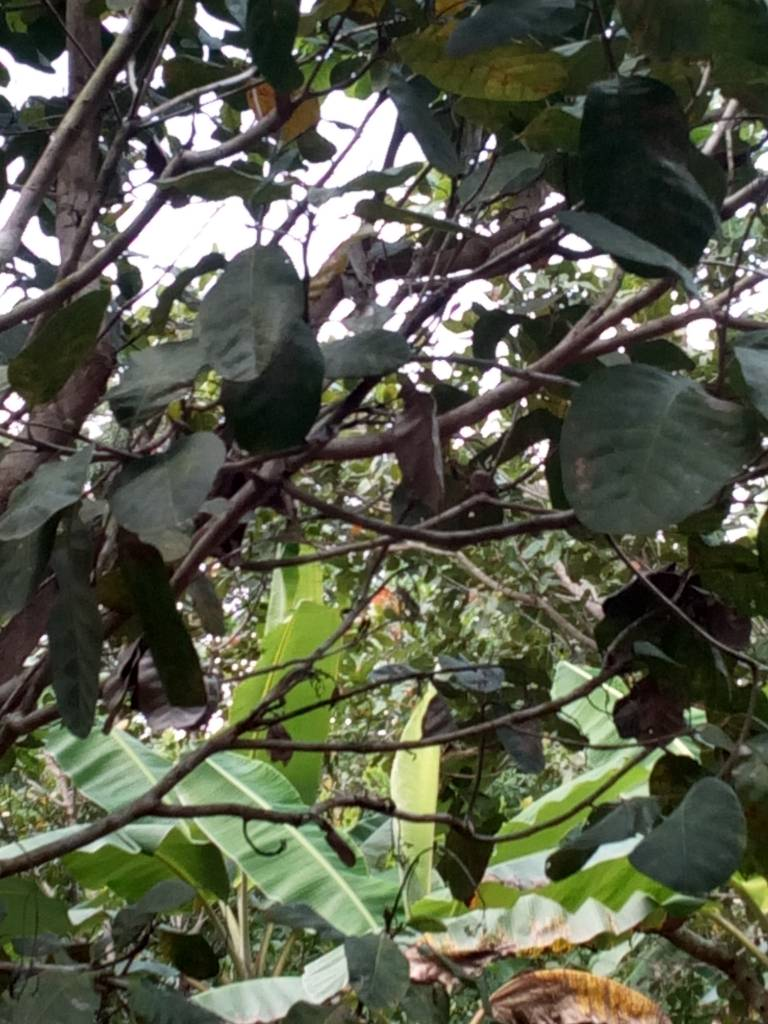Dessèchement des bourgeons: (1, 903, 149, 1020)
